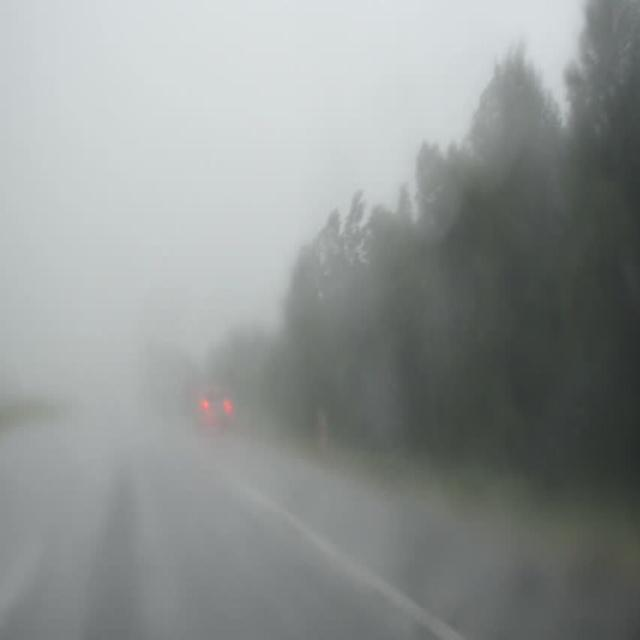car: (196, 381, 232, 433)
